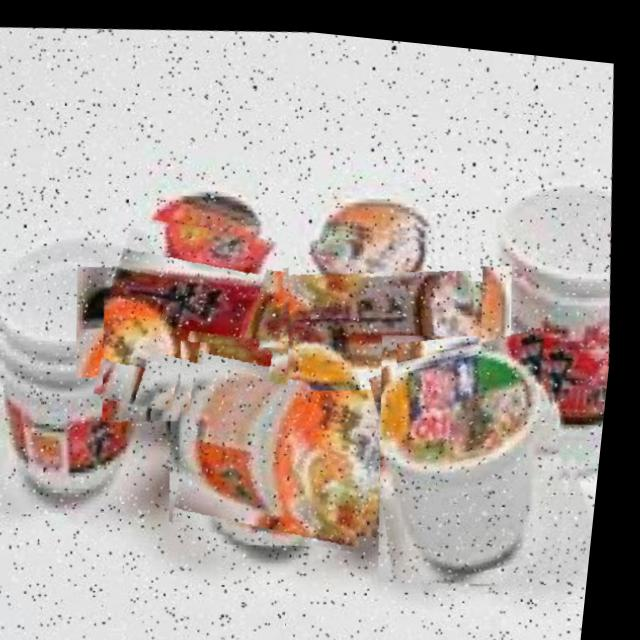Miscellaneous: (368, 308, 614, 589), (171, 318, 408, 555), (93, 202, 326, 436), (277, 200, 503, 426)
